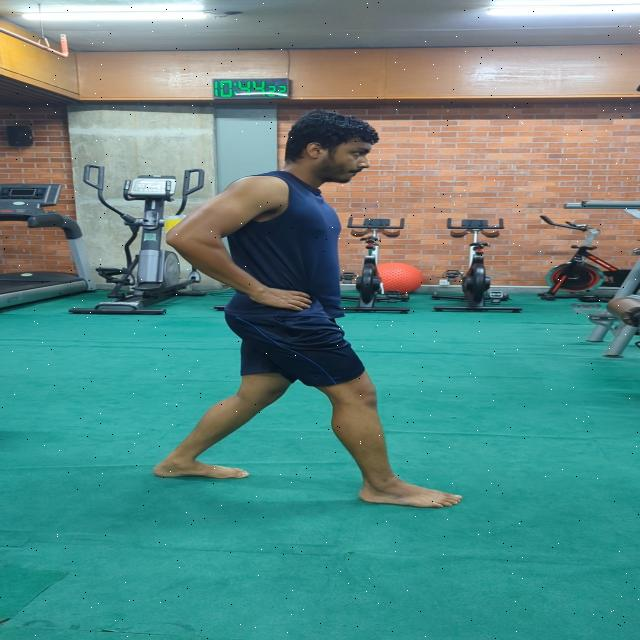Normal_Lunges: (143, 100, 497, 520)
